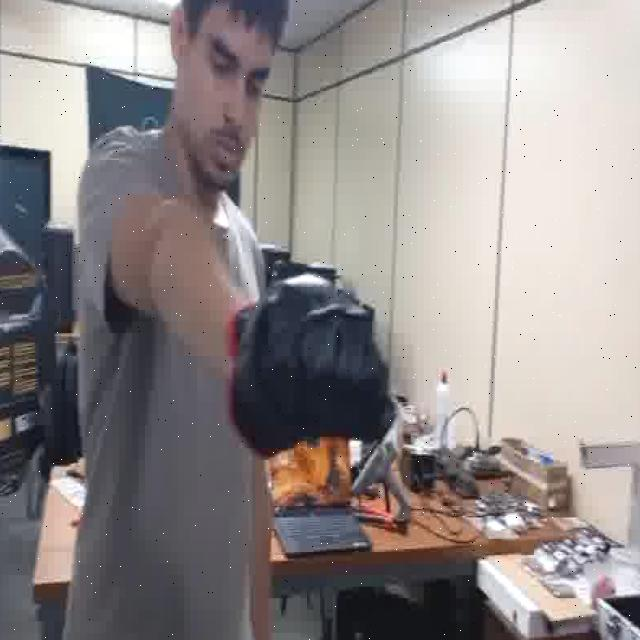Gloves: (227, 275, 391, 452)
